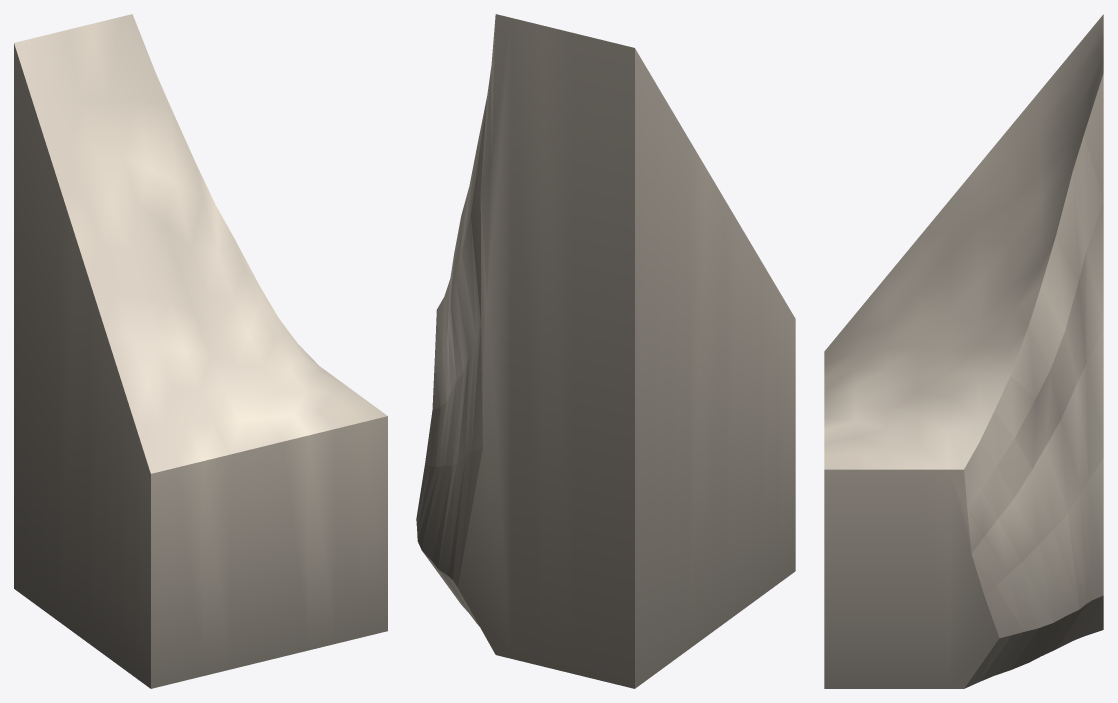
Rendered from SM_VKI_Rock_Cave_CCOF_A.fbx.
3 views of the same model, side by side, from view 1: azimuth 30°, elevation 25°; view 2: azimuth 150°, elevation 25°; view 3: azimuth 270°, elevation 25° (orthographic). The views are drawn at different scales.
Visible parts, largest first — view 1: SM_VKI_Rock_Cave_CCOF_A.001; view 2: SM_VKI_Rock_Cave_CCOF_A.001; view 3: SM_VKI_Rock_Cave_CCOF_A.001.
Part boxes in pixels (x1,y1,x2,y2): SM_VKI_Rock_Cave_CCOF_A.001: [14, 14, 387, 688]; SM_VKI_Rock_Cave_CCOF_A.001: [416, 14, 795, 688]; SM_VKI_Rock_Cave_CCOF_A.001: [824, 14, 1103, 688].
Bounding box in the file's own units: 1.5 × 3.3 × 1.5.
